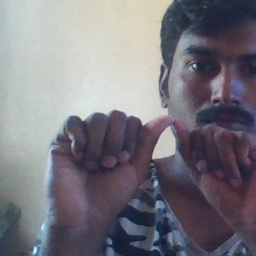A: (82, 101, 249, 218)
